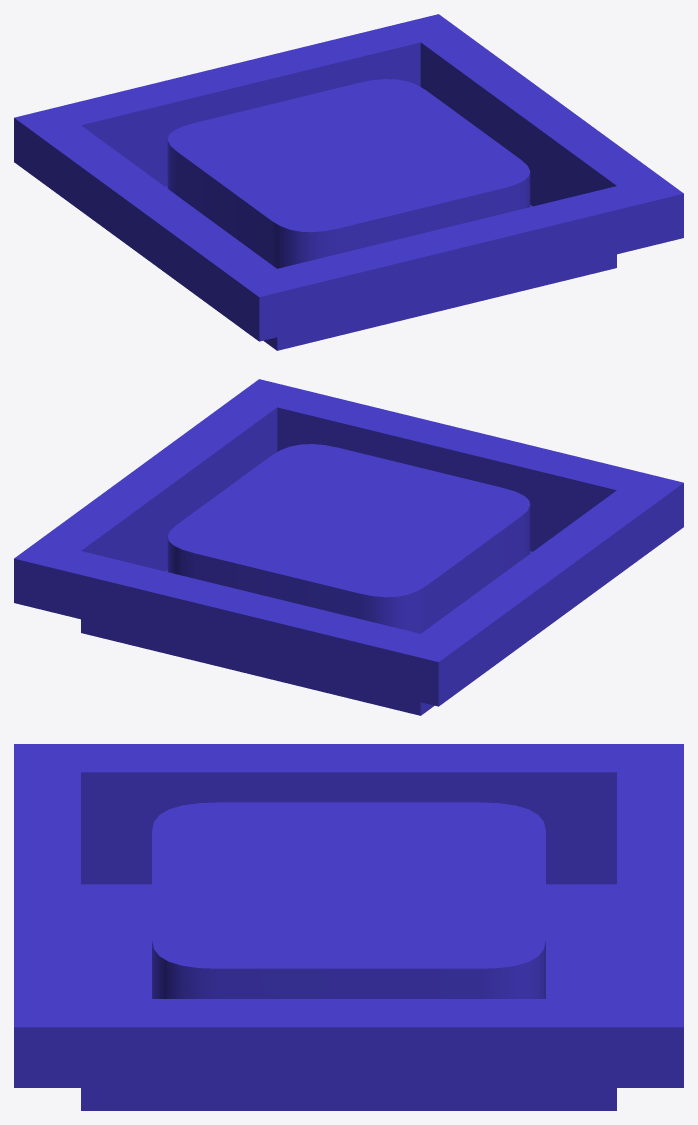
File: Ceiling_A_1x1m.FBX
3 views of the same model, one above another, from view 1: azimuth 30°, elevation 25°; view 2: azimuth 150°, elevation 25°; view 3: azimuth 270°, elevation 25° (orthographic). The views are drawn at different scales.
Visible parts, largest first — view 1: Ceiling_A_1x1m; view 2: Ceiling_A_1x1m; view 3: Ceiling_A_1x1m.
Part boxes in pixels (<box>): Ceiling_A_1x1m: <box>14,14,683,350</box>; Ceiling_A_1x1m: <box>14,379,683,715</box>; Ceiling_A_1x1m: <box>14,744,683,1110</box>.
Bounding box in the file's own units: 100 × 18.45 × 100.
